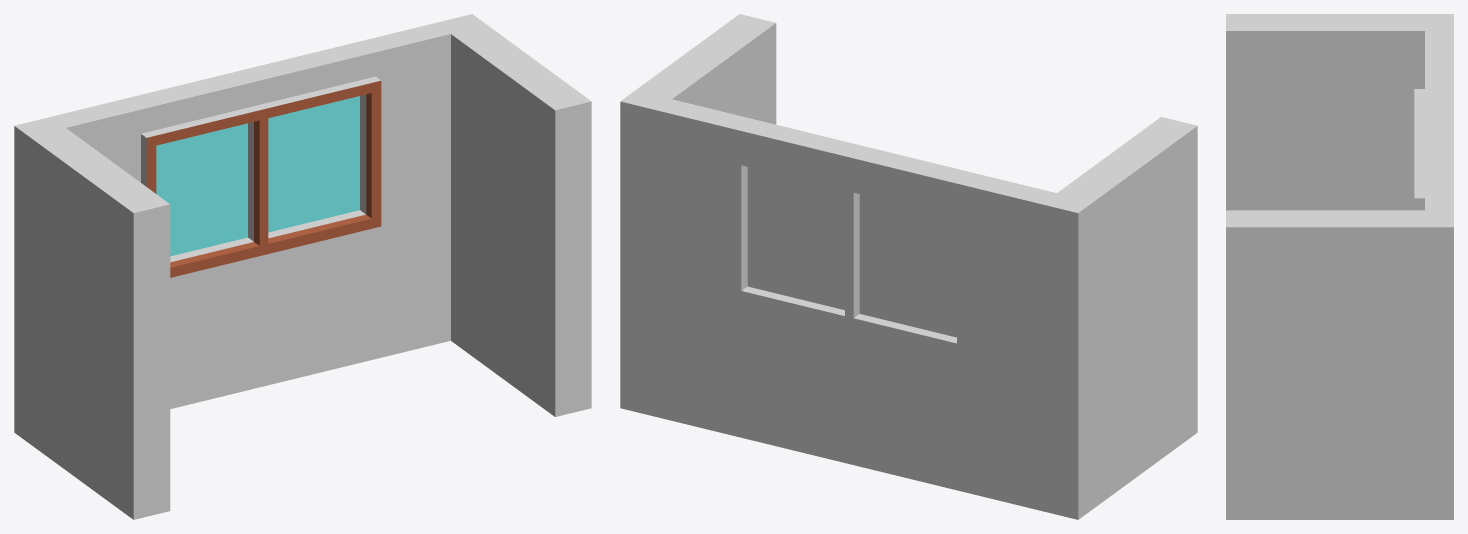
File: Wall.fbx
The picture shows the model from 3 angles, left to right: view 1: azimuth 30°, elevation 25°; view 2: azimuth 150°, elevation 25°; view 3: azimuth 270°, elevation 25°; orthographic projection. The views are drawn at different scales.
Parts seen in each view (by area): view 1: Cube; view 2: Cube; view 3: Cube.
Boxes of the visible parts, box(x1,y1,x2,y2) form: Cube: box(14, 14, 591, 519); Cube: box(620, 14, 1197, 519); Cube: box(1226, 14, 1453, 519).
Bounding box in the file's own units: 24539 × 15705 × 11086.
